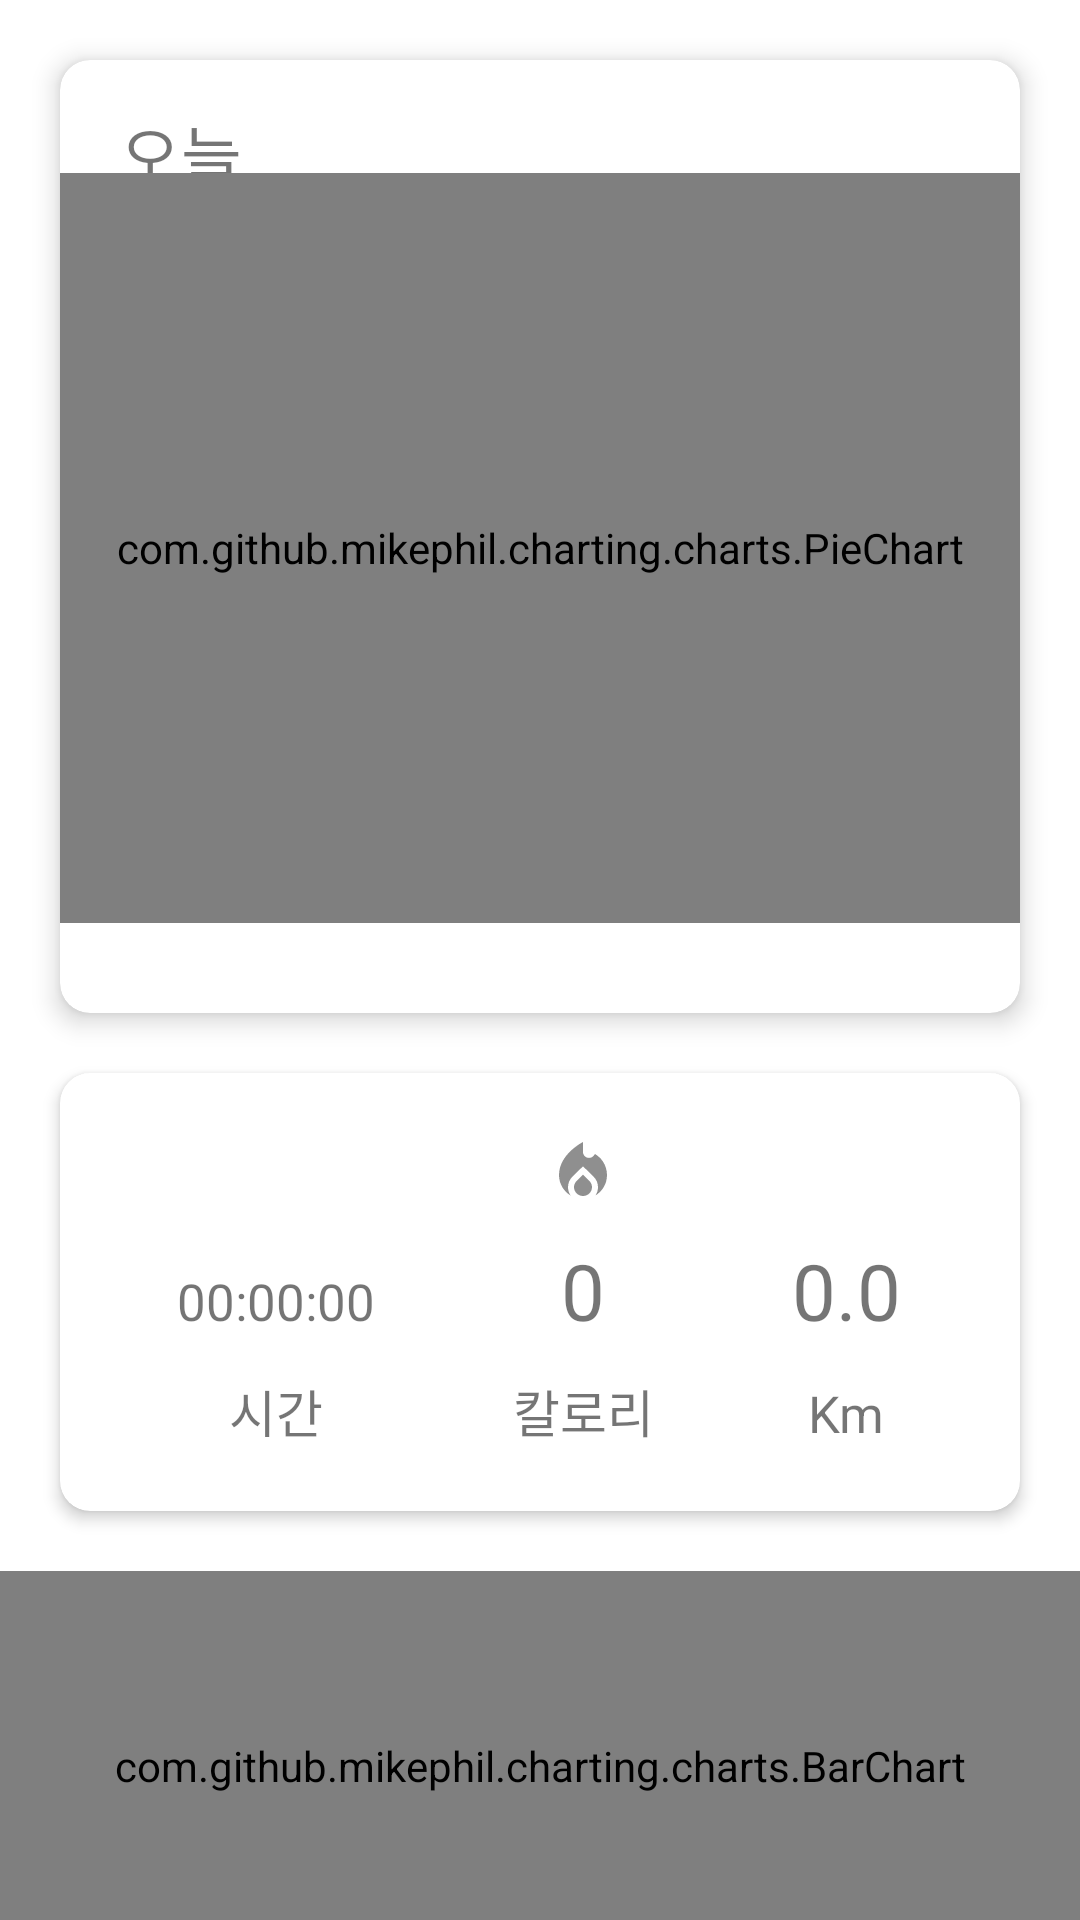

Screen size 1080*1920. Icon name, then its center in pixels as (x=x, y=y):
local fire department: (x=583, y=1169)
